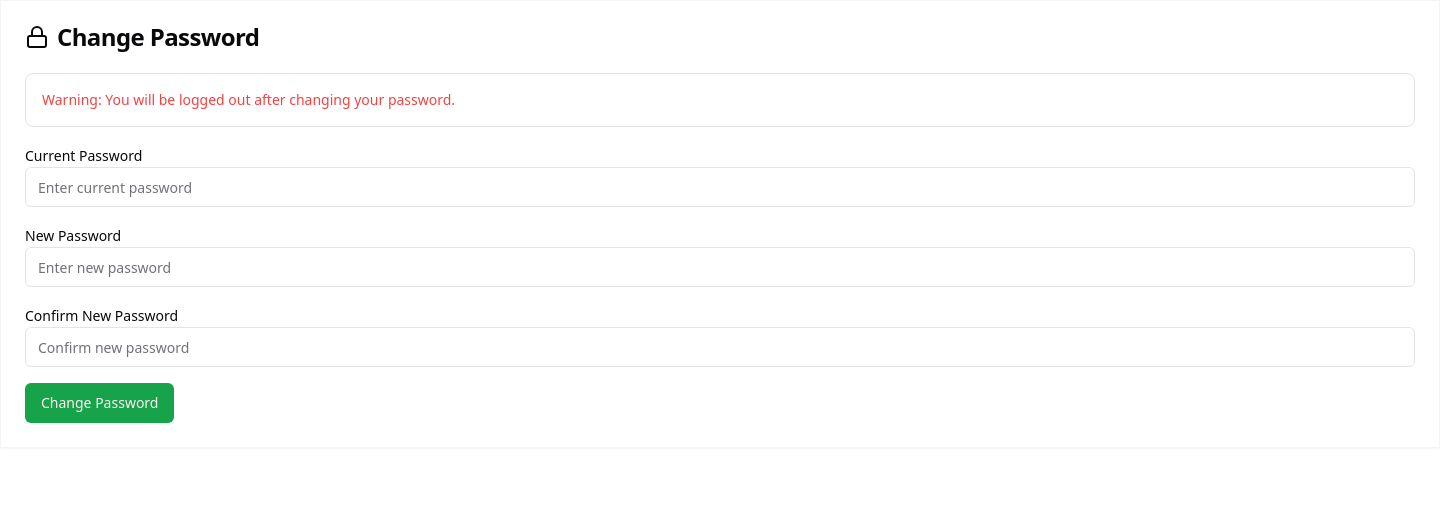
Test case: ChangePasswordForm › displays an error when new password is too short
Type "oldpass" into the password field labelled "Current Password".
click(720, 187); type("oldpass")  # box [25, 167, 1415, 207]
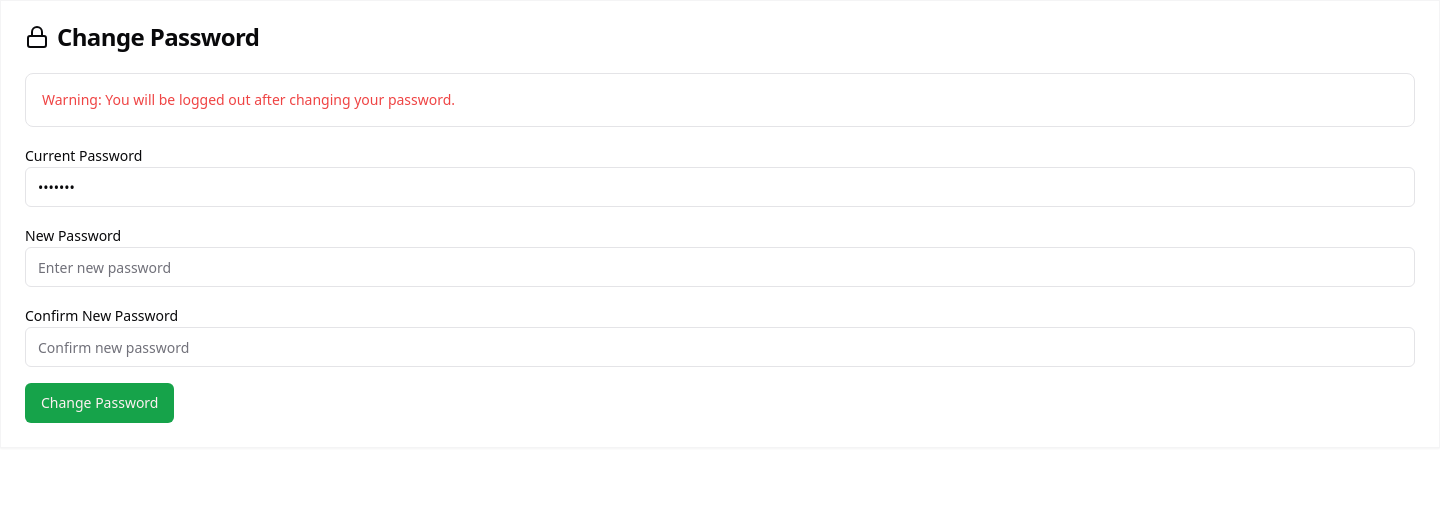
Type "short" into the password field labelled "New Password".
click(720, 267); type("short")  # box [25, 247, 1415, 287]
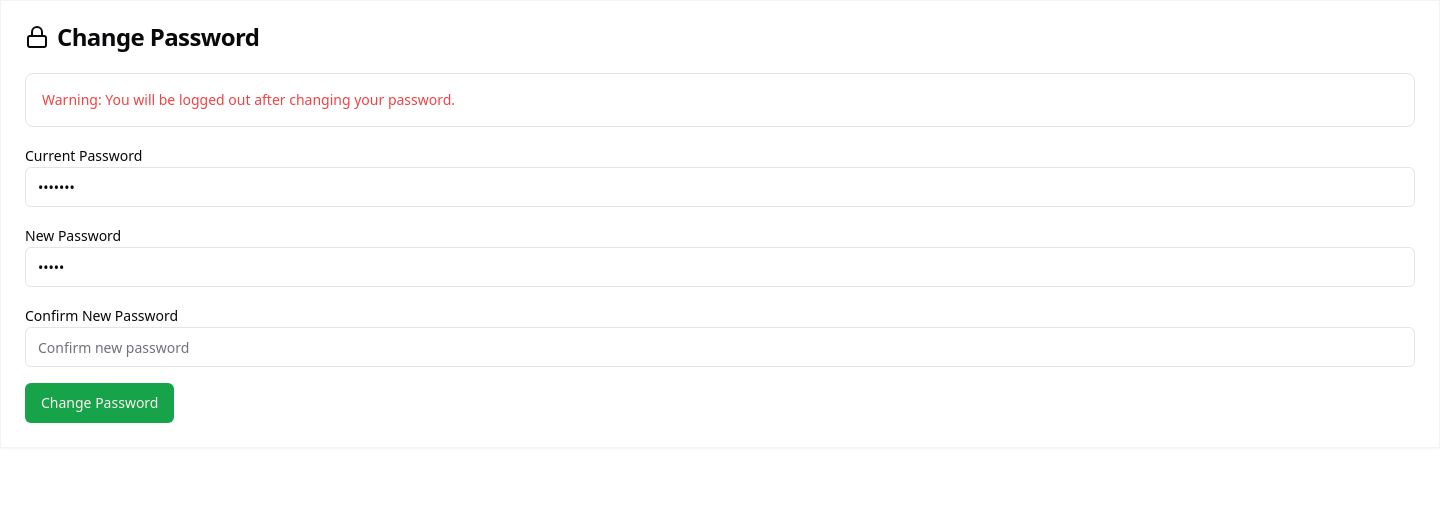
Type "short" into the password field labelled "Confirm New Password".
click(720, 347); type("short")  # box [25, 327, 1415, 367]
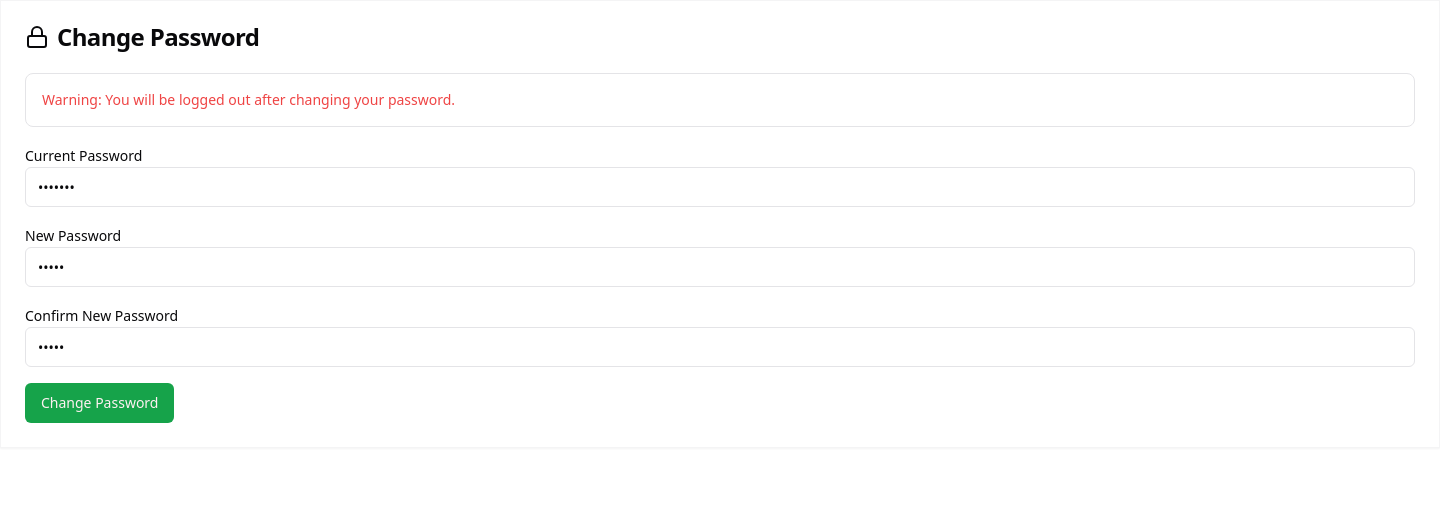
Click the button "Change Password".
click(100, 403)  # box [25, 383, 174, 423]
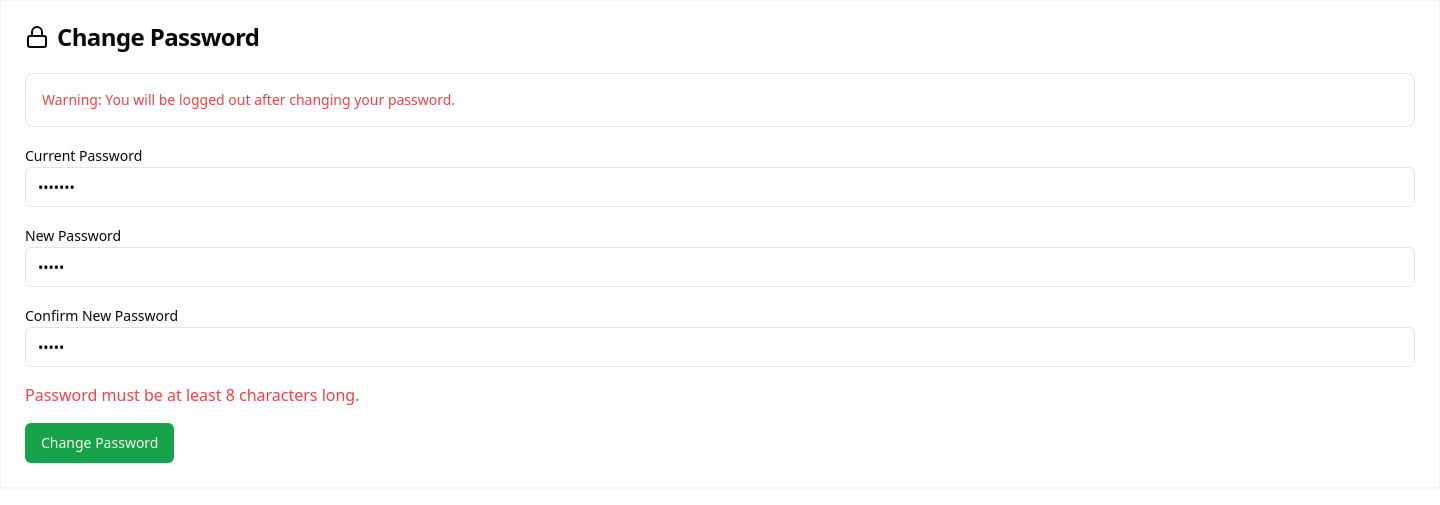
Now the text "Password must be at least 8 characters long." is shown, box [25, 384, 360, 406]
